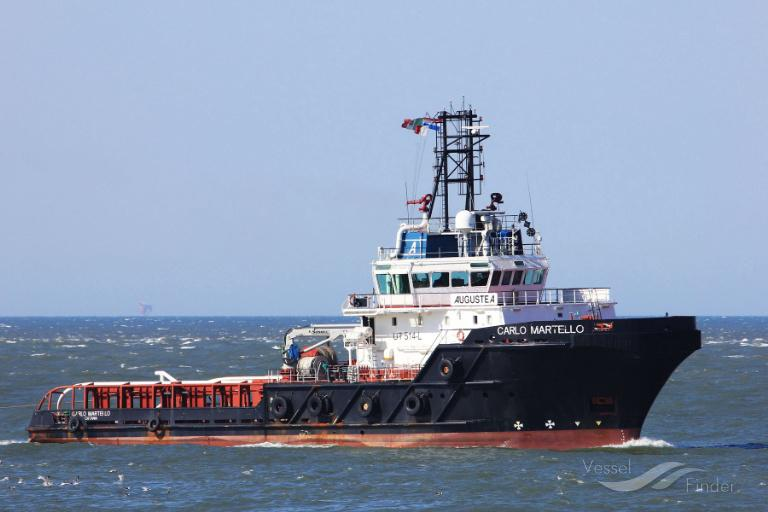OCR: (494, 321, 588, 343), (449, 295, 500, 310), (68, 408, 116, 422)
